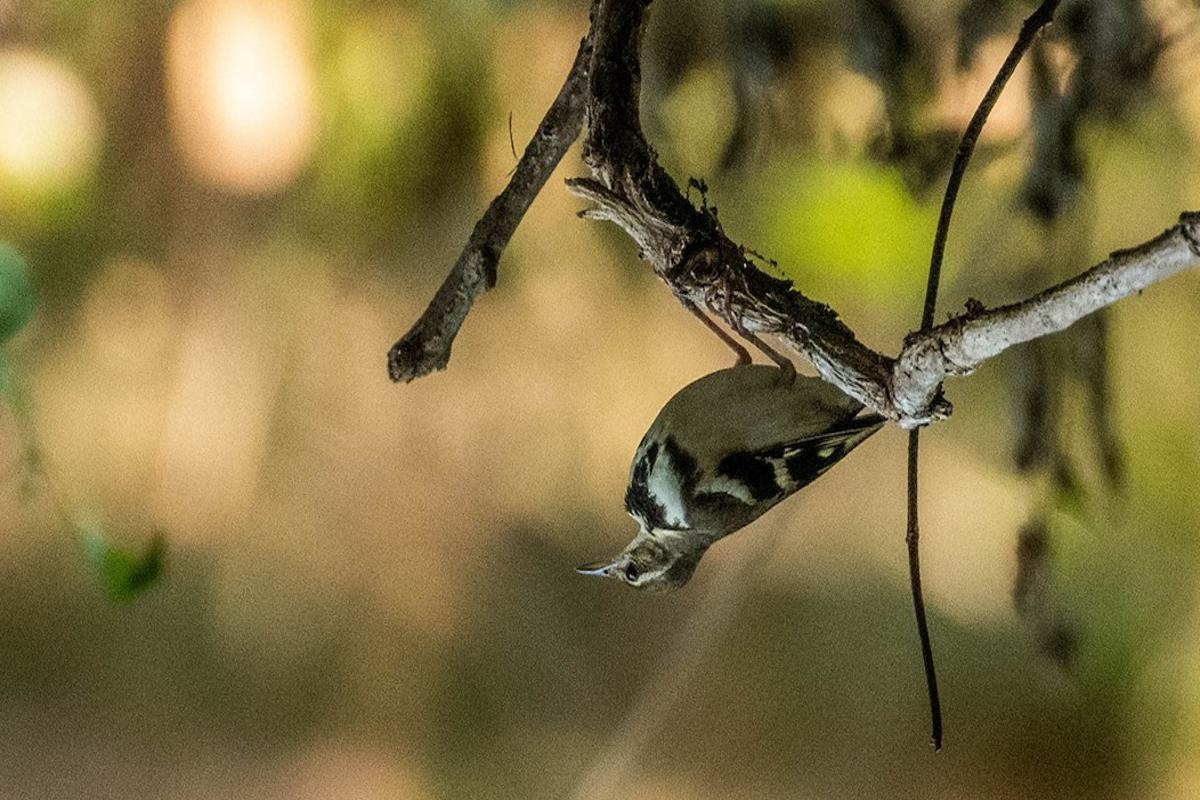wagtail: (589, 326, 931, 615)
